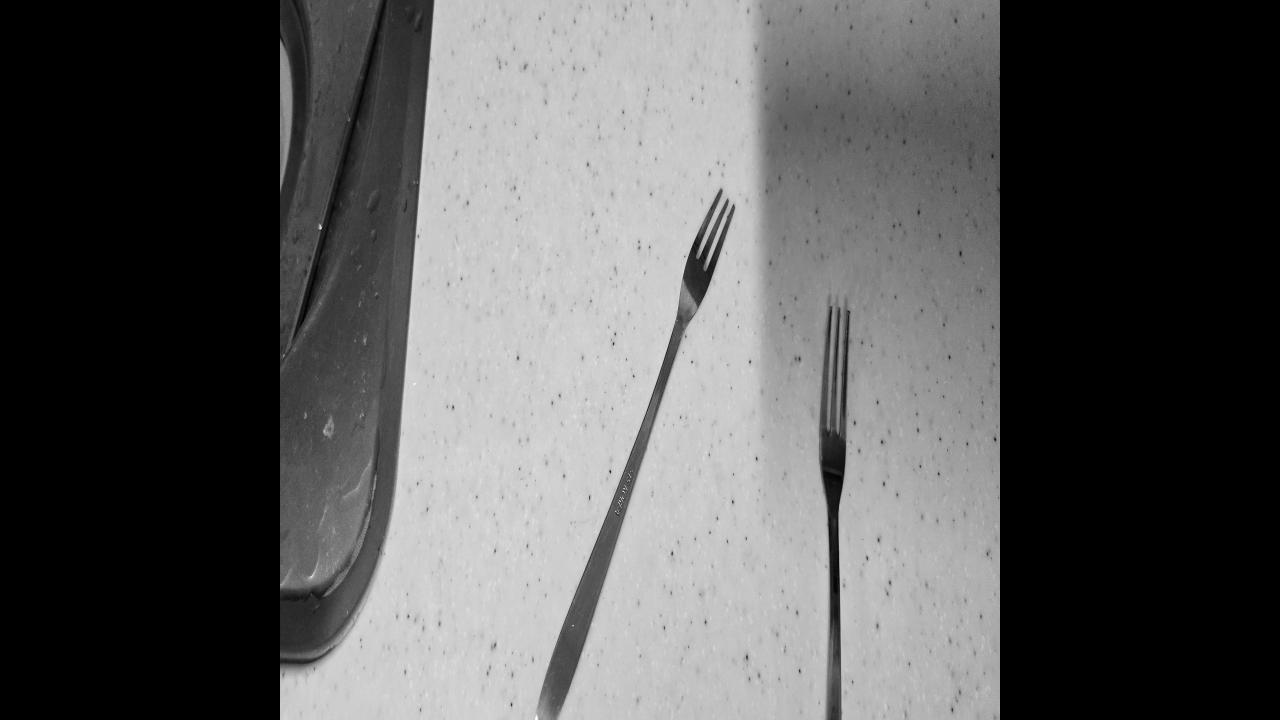fork: (532, 182, 730, 720), (808, 294, 852, 720)
